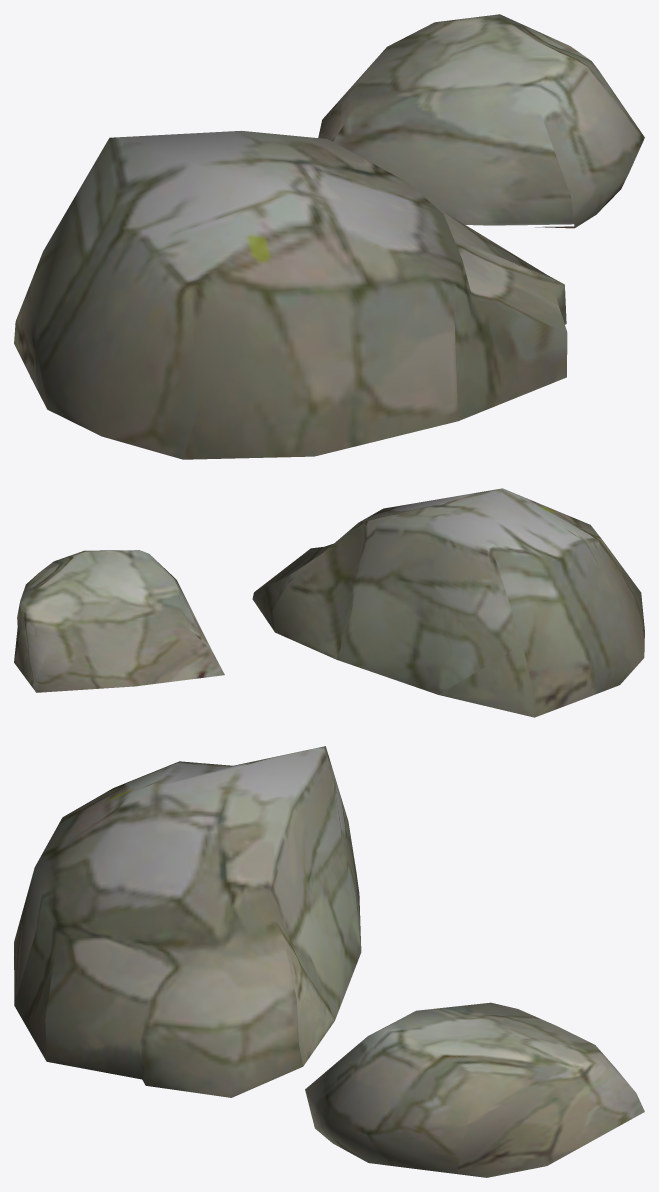
The model's file is Map_04_stone04.FBX.
3 views of the same model, one above another, from view 1: azimuth 30°, elevation 25°; view 2: azimuth 150°, elevation 25°; view 3: azimuth 270°, elevation 25° (orthographic). The views are drawn at different scales.
Parts seen in each view (by area): view 1: Map_04_stone04; view 2: Map_04_stone04; view 3: Map_04_stone04.
Part boxes in pixels (box(x1,y1,x2,y2)): Map_04_stone04: box(14, 14, 644, 459); Map_04_stone04: box(14, 488, 644, 717); Map_04_stone04: box(14, 746, 644, 1177).
Bounding box in the file's own units: 10.23 × 2.76 × 8.69.
1 material, 1 textured.
